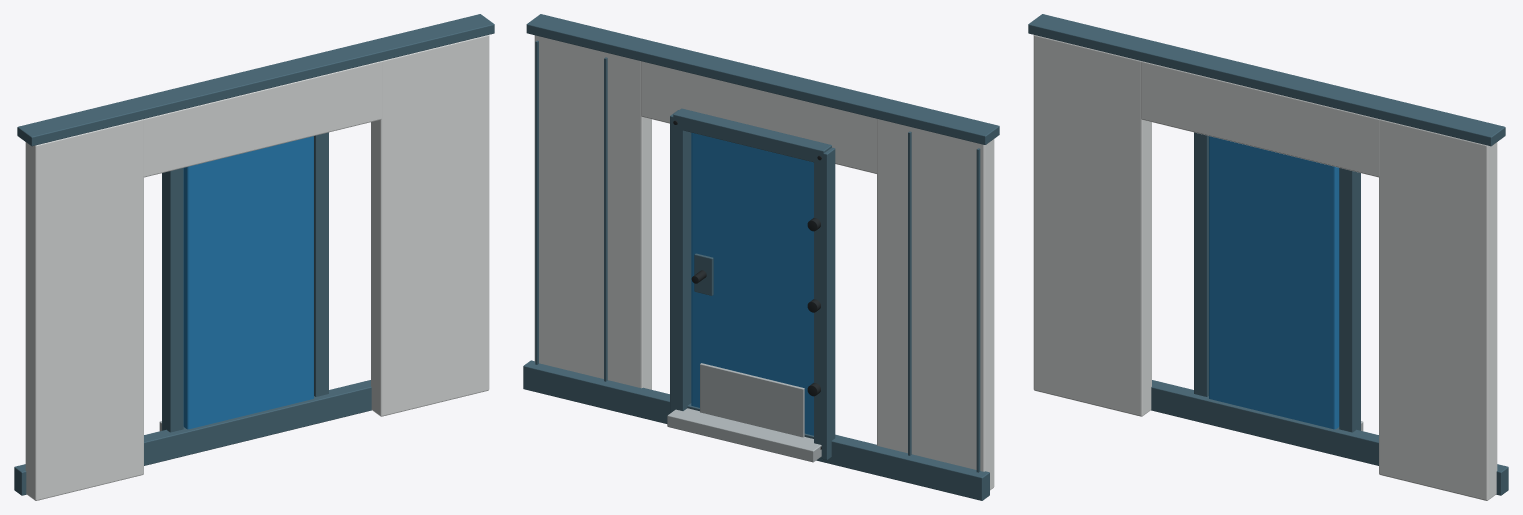
Rendered from personnel_door_wall_module.glb.
3 views of the same model, side by side, from view 1: azimuth 30°, elevation 25°; view 2: azimuth 150°, elevation 25°; view 3: azimuth 330°, elevation 25° (orthographic).
Visible parts, largest first — view 1: WALL_left, WALL_right, DOOR_leaf, WALL_header, TOP_cap, BASE_flashing, DOOR_frame_-0.64, DOOR_frame_0.64; view 2: WALL_left, WALL_right, DOOR_leaf, TOP_cap, WALL_header, BASE_flashing, DOOR_frame_-0.64, DOOR_frame_0.64, DOOR_kickplate, DOOR_threshold, DOOR_frame_top, WALL_seam_-1.96 (+4 smaller); view 3: WALL_right, WALL_left, DOOR_leaf, WALL_header, TOP_cap, BASE_flashing, DOOR_frame_0.64, DOOR_frame_-0.64.
Part boxes in pixels (x1,y1,x2,y2): WALL_left: [25, 119, 143, 500]; WALL_right: [371, 35, 489, 416]; DOOR_leaf: [183, 136, 313, 429]; WALL_header: [143, 61, 381, 177]; TOP_cap: [17, 14, 494, 146]; BASE_flashing: [14, 380, 371, 495]; DOOR_frame_-0.64: [162, 168, 183, 432]; DOOR_frame_0.64: [314, 132, 328, 396]; WALL_left: [877, 119, 994, 490]; WALL_right: [534, 35, 651, 389]; DOOR_leaf: [691, 132, 813, 435]; TOP_cap: [526, 14, 999, 144]; WALL_header: [641, 61, 877, 173]; BASE_flashing: [523, 360, 989, 500]; DOOR_frame_-0.64: [814, 147, 835, 459]; DOOR_frame_0.64: [670, 110, 691, 413]; DOOR_kickplate: [700, 363, 804, 437]; DOOR_threshold: [667, 408, 821, 462]; DOOR_frame_top: [673, 108, 831, 162]; WALL_seam_-1.96: [976, 148, 980, 472]; WALL_right: [1379, 119, 1497, 500]; WALL_left: [1033, 35, 1151, 416]; DOOR_leaf: [1209, 136, 1339, 429]; WALL_header: [1141, 61, 1379, 177]; TOP_cap: [1028, 14, 1505, 146]; BASE_flashing: [1151, 380, 1508, 495]; DOOR_frame_0.64: [1339, 168, 1360, 432]; DOOR_frame_-0.64: [1194, 132, 1208, 396].
Bounding box in the file's own units: 4.08 × 3.08 × 0.46.
